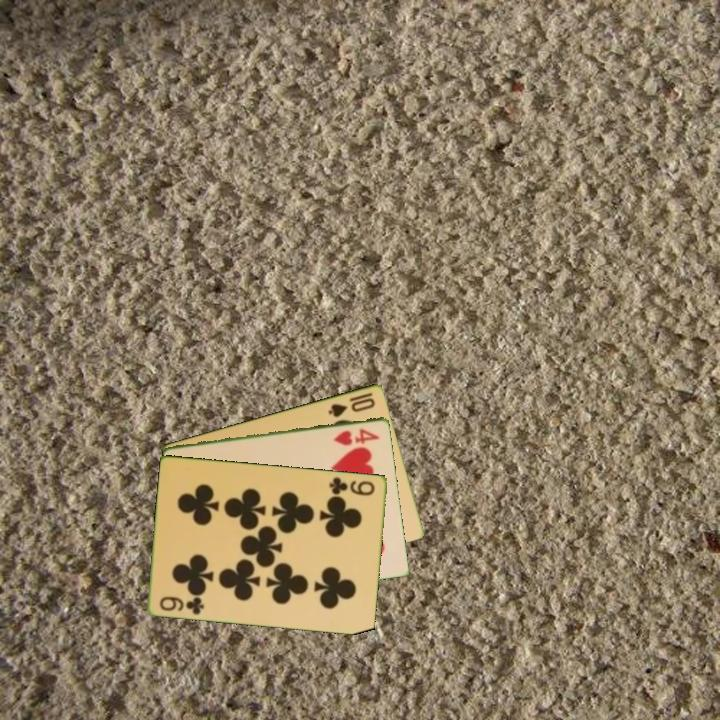10s: (325, 388, 378, 420)
4h: (330, 425, 383, 448)
9c: (326, 473, 378, 498), (156, 592, 207, 617)
